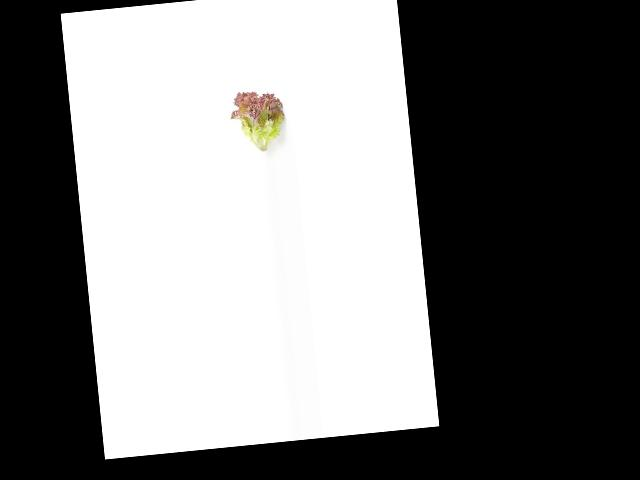lettuce: (229, 85, 289, 162)
